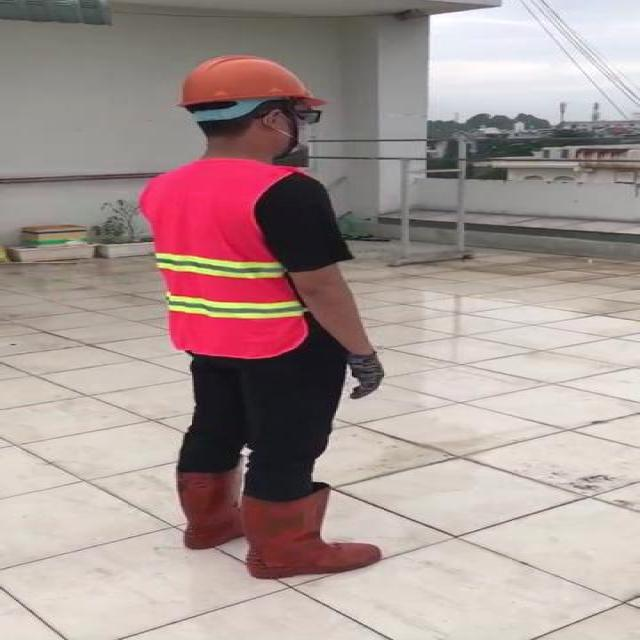boots: (244, 489, 380, 584), (174, 456, 240, 551)
hand_glove: (343, 349, 384, 399)
head_helmet: (180, 54, 328, 108)
person: (123, 39, 405, 596)
vest: (139, 159, 313, 358)
